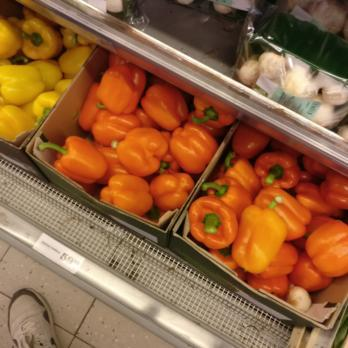Capsicum: (216, 156, 348, 319), (79, 72, 203, 216), (2, 20, 57, 124)
